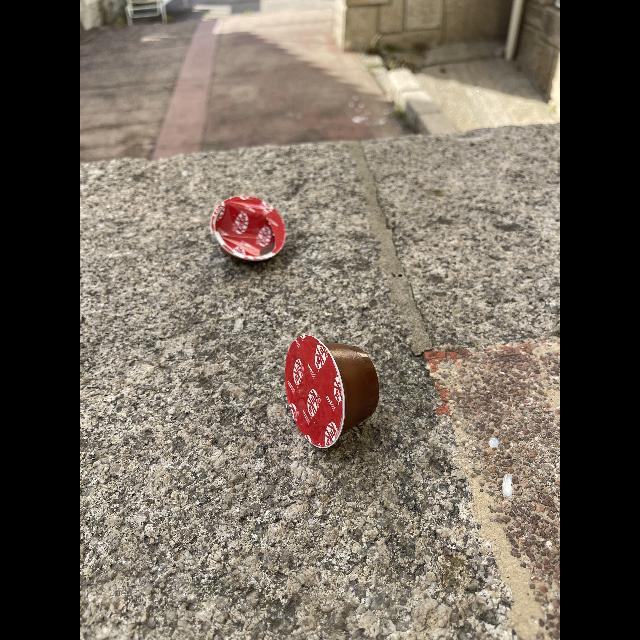damaged_capsule: (206, 192, 294, 274)
intact_capsule: (279, 325, 405, 457)
